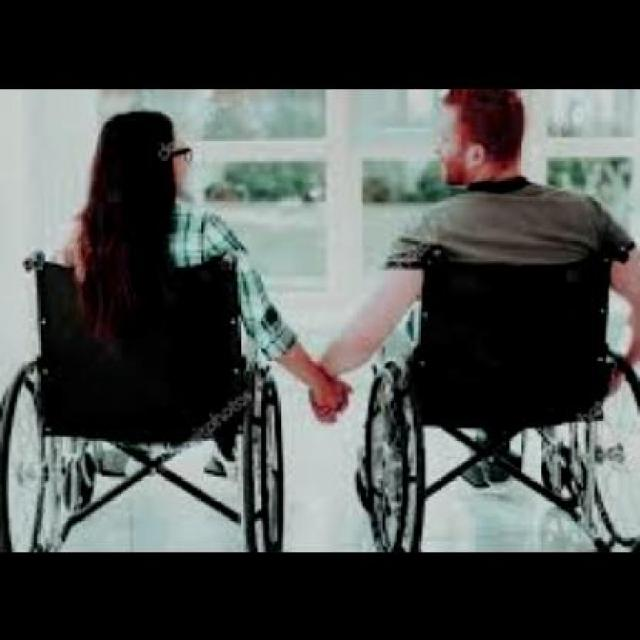wheelchairs: (5, 244, 308, 549), (344, 243, 640, 550)
